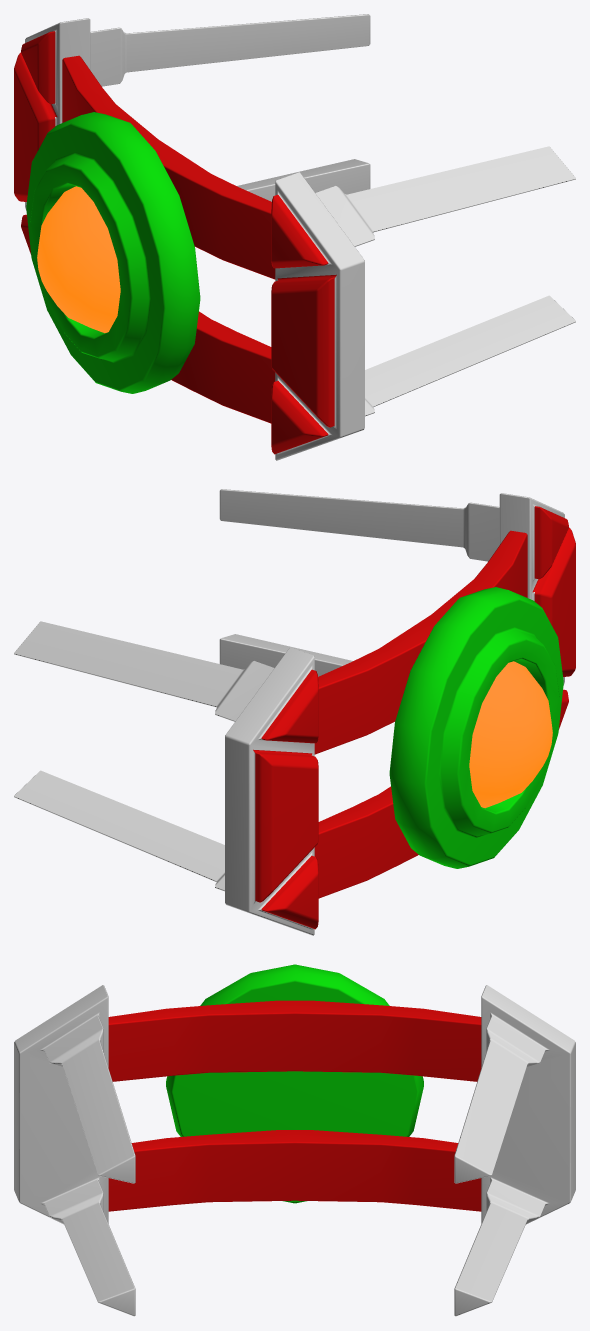
The model's file is SM_ShieldModule_Circle.fbx.
3 views of the same model, one above another, from view 1: azimuth 30°, elevation 25°; view 2: azimuth 150°, elevation 25°; view 3: azimuth 270°, elevation 25° (orthographic). The views are drawn at different scales.
Parts seen in each view (by area): view 1: ShieldModel, ShieldBall; view 2: ShieldModel, ShieldBall; view 3: ShieldModel.
Boxes of the visible parts, box(x1,y1,x2,y2) form: ShieldModel: box(14, 14, 575, 460); ShieldBall: box(37, 186, 120, 333); ShieldModel: box(14, 489, 575, 935); ShieldBall: box(469, 661, 552, 808); ShieldModel: box(14, 964, 575, 1316).
Bounding box in the file's own units: 11.22 × 14.64 × 7.18.
